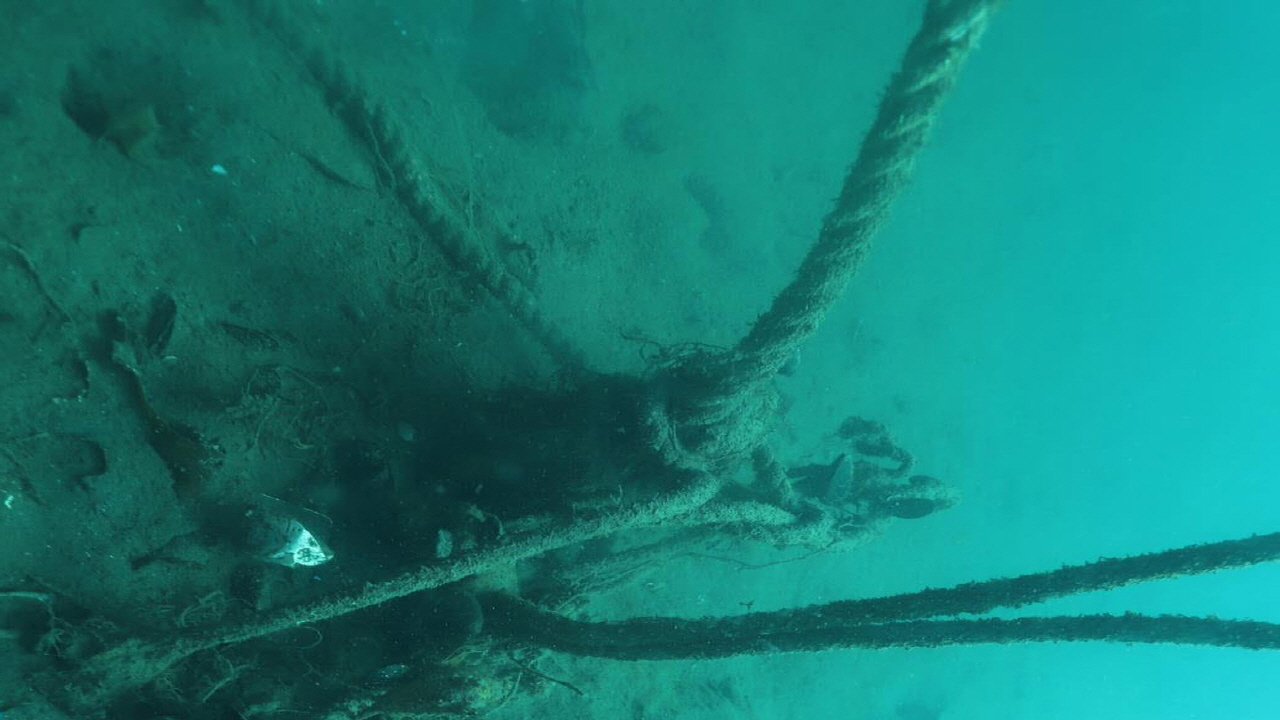bundle of ropes: (161, 0, 1280, 720)
